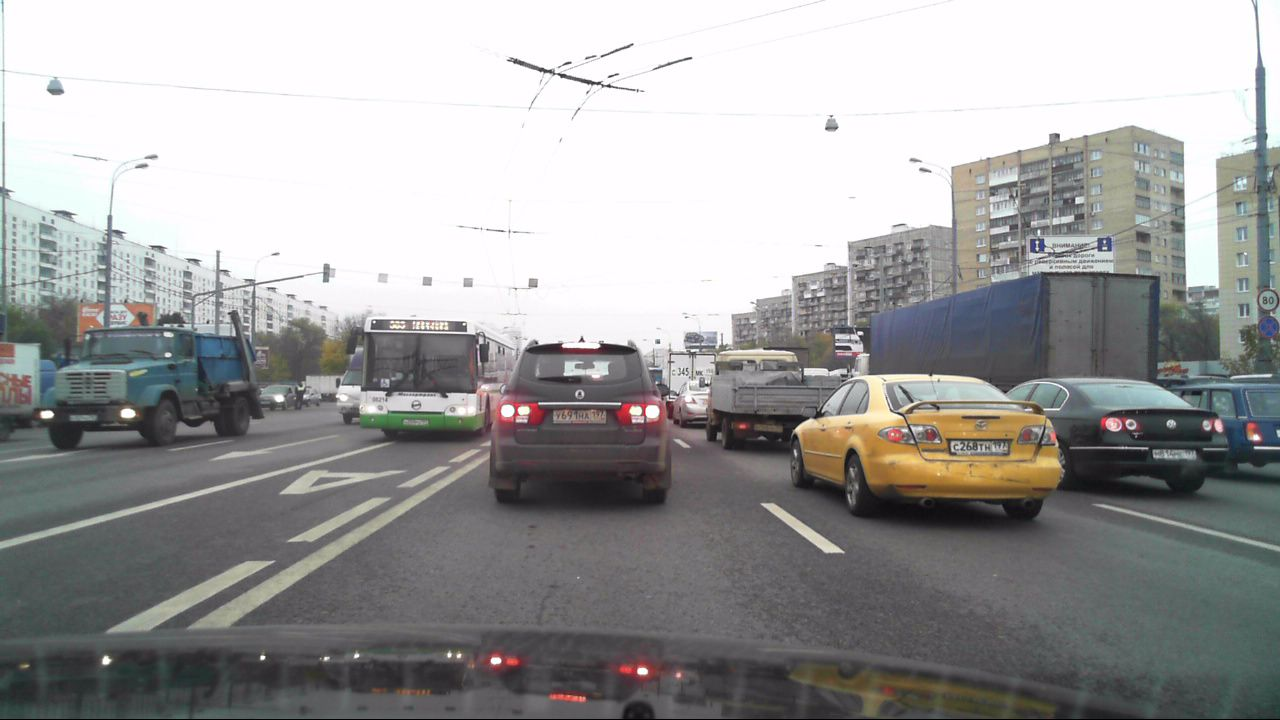No Parking: (1256, 316, 1279, 338)
